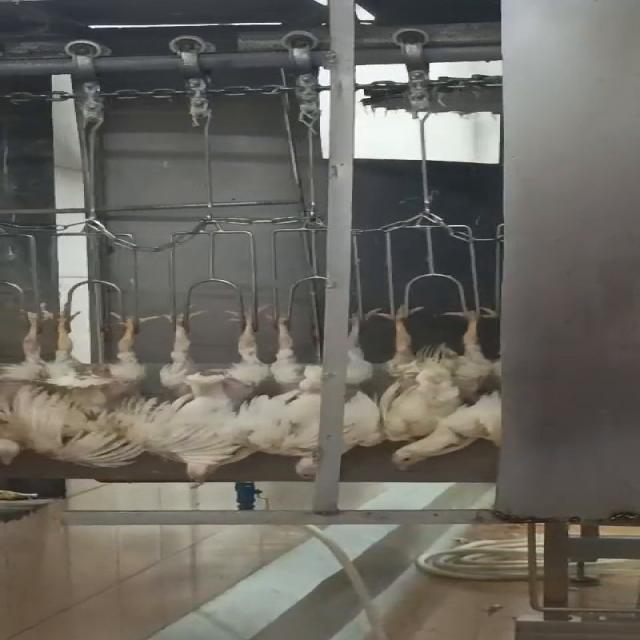chicken: (132, 300, 266, 487), (256, 298, 387, 482), (388, 297, 510, 474), (43, 300, 149, 472), (0, 302, 43, 468)
